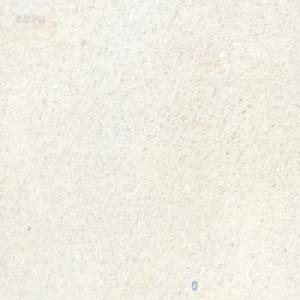Washer: (191, 279, 197, 291)
